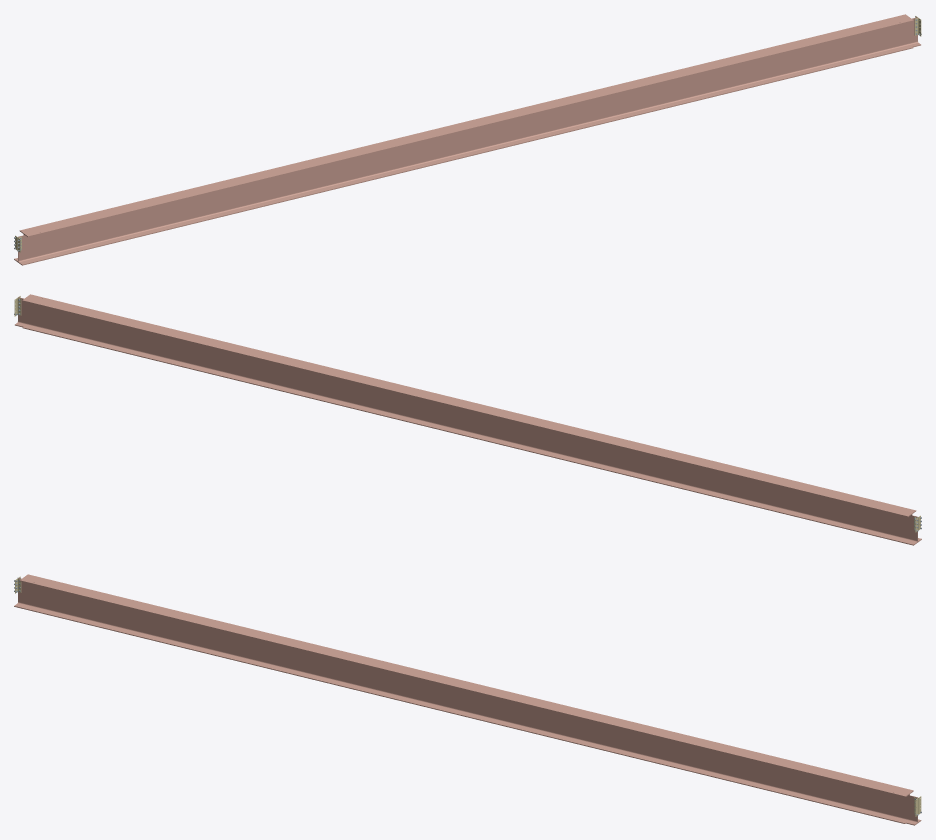
3 renders of one model, top to bottom at view 1: azimuth 30°, elevation 25°; view 2: azimuth 150°, elevation 25°; view 3: azimuth 330°, elevation 25°, orthographic.
Parts seen in each view (by area): view 1: product-1b27d0b6-483d-4752-8a0f-75be47fa3074-body; view 2: product-1b27d0b6-483d-4752-8a0f-75be47fa3074-body; view 3: product-1b27d0b6-483d-4752-8a0f-75be47fa3074-body.
Part boxes in pixels (<box>): product-1b27d0b6-483d-4752-8a0f-75be47fa3074-body: <box>14,14,920,265</box>; product-1b27d0b6-483d-4752-8a0f-75be47fa3074-body: <box>15,294,921,545</box>; product-1b27d0b6-483d-4752-8a0f-75be47fa3074-body: <box>14,574,921,825</box>.
Bounding box in the file's own units: 20.77 × 0.6121 × 0.3251.
